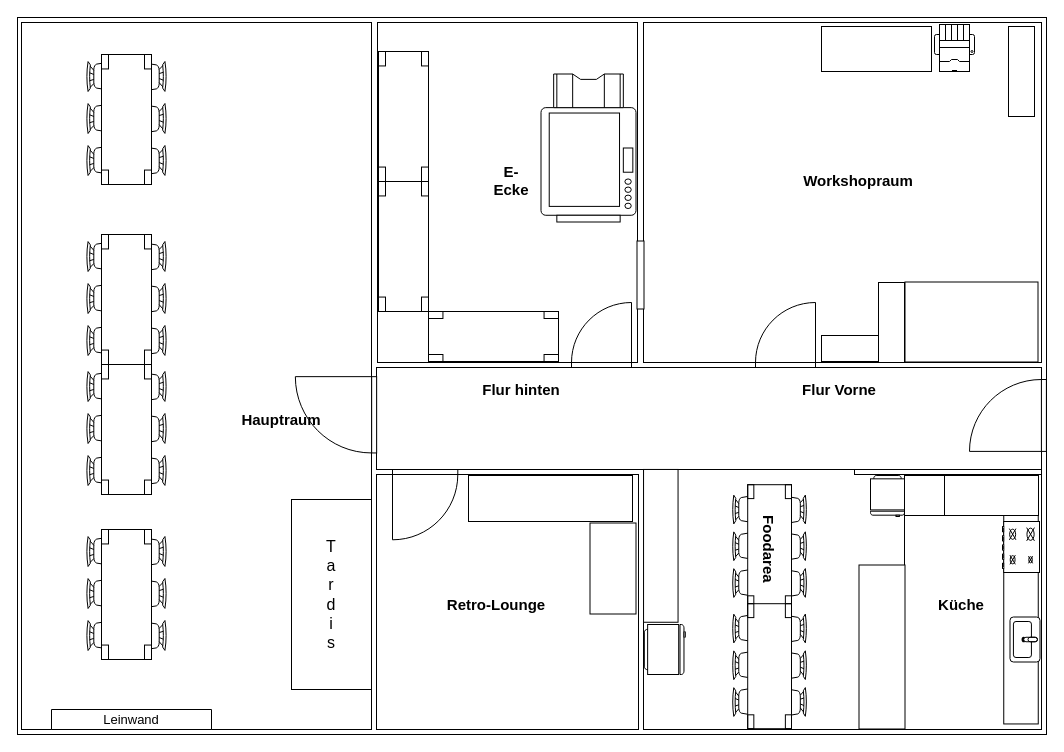
The diagram is 1064 pixels wide and 752 high, and some of its shapes have lost their labels. Here are the shapes that lost their labels. From the top down, the centre of each, then its label:
At pixel 588 147: "FaZzZ0r 2".
At pixel 971 321: "Tardis".
